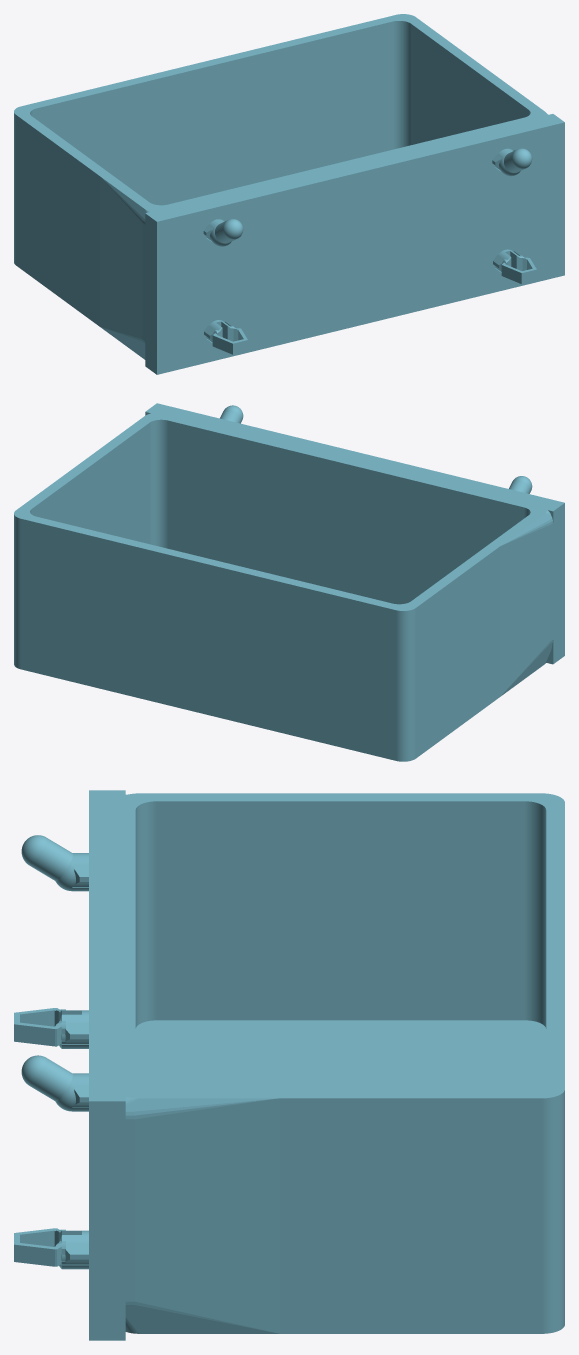
The model's file is part-p06__current-mounts-flat-top-v2__fit-pf02c9-hoop5__installed.glb.
3 renders of one model, top to bottom at view 1: azimuth 30°, elevation 25°; view 2: azimuth 150°, elevation 25°; view 3: azimuth 270°, elevation 25°, orthographic. The views are drawn at different scales.
Parts seen in each view (by area): view 1: installed.stl; view 2: installed.stl; view 3: installed.stl.
Boxes of the visible parts, x1,y1,x2,y2 form: installed.stl: (14,14,564,374); installed.stl: (14,403,564,761); installed.stl: (14,790,564,1340).
Bounding box in the file's own units: 0.1076 × 0.0386 × 0.0805.
